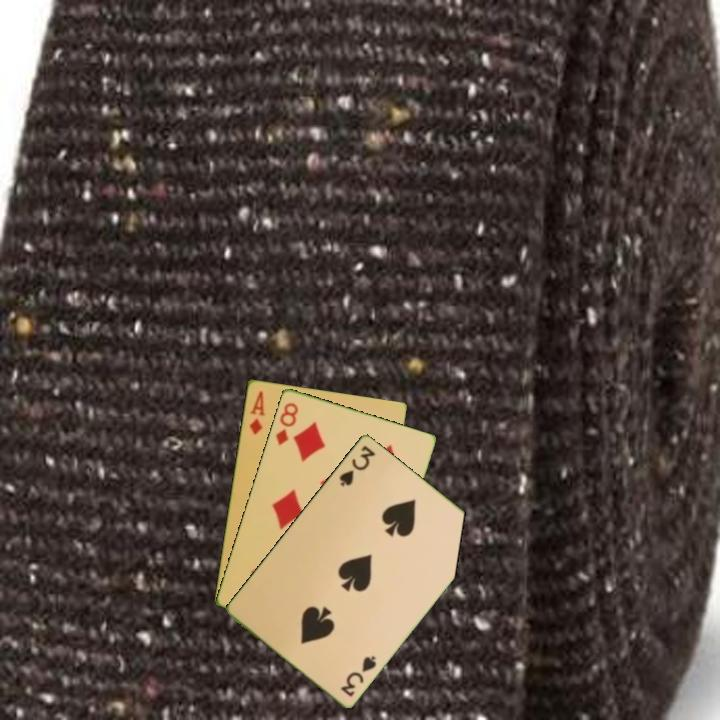3s: (335, 441, 378, 489), (337, 652, 379, 699)
8d: (272, 399, 301, 448)
Ad: (246, 387, 267, 437)
